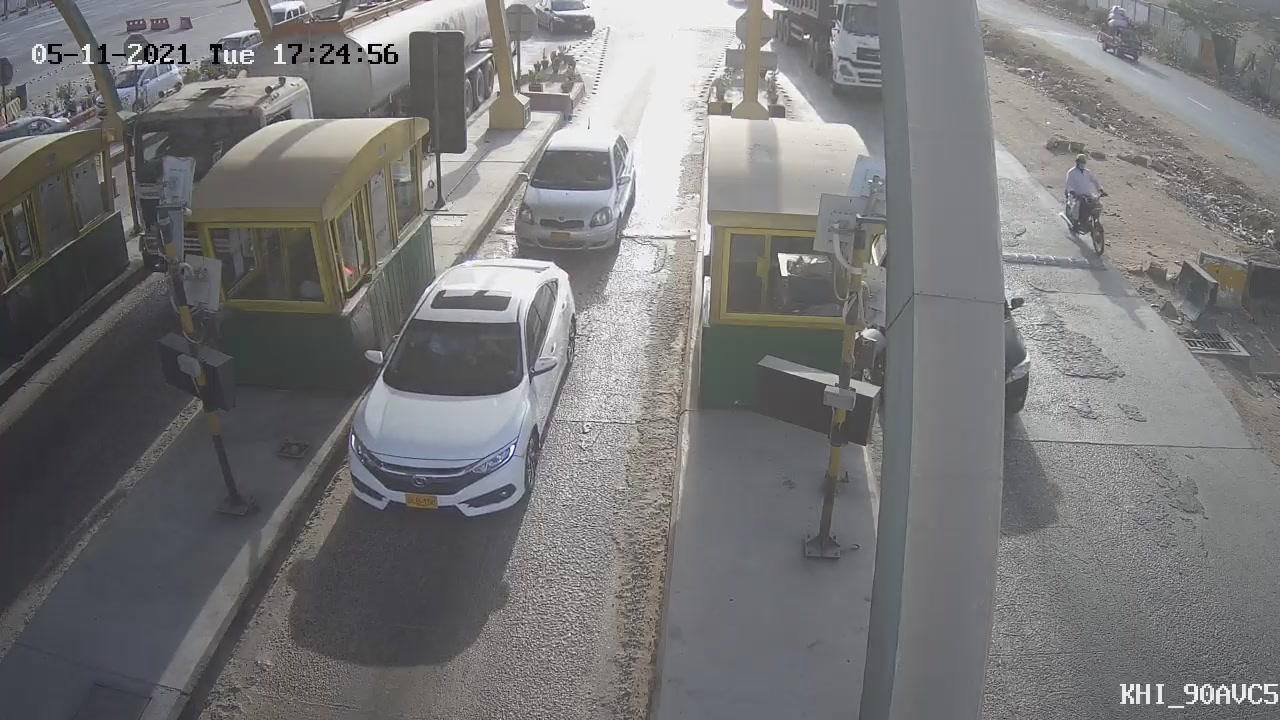F1: (313, 234, 604, 547), (486, 105, 656, 279)
